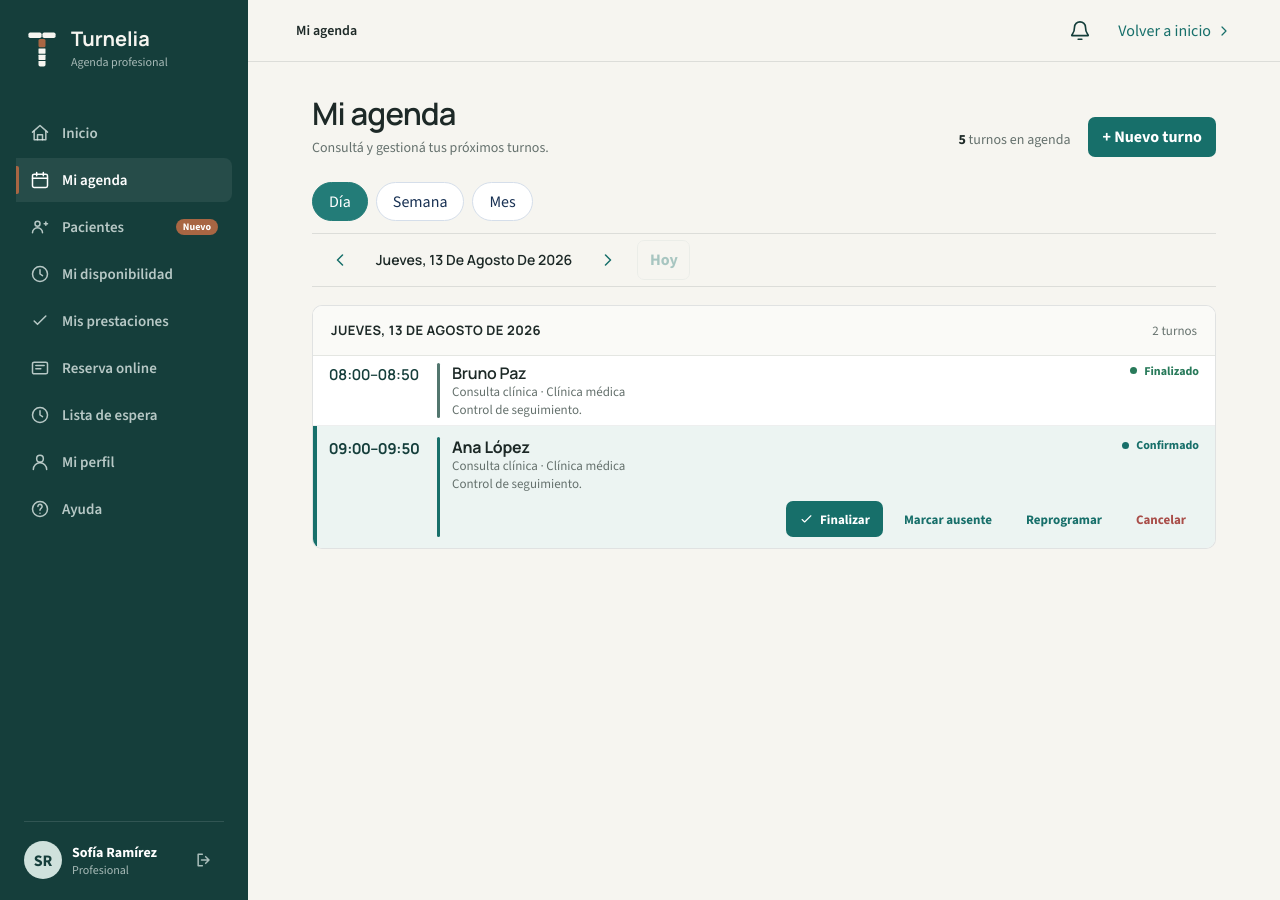
Test: agenda propia profesional Signature › navega localmente entre fechas sin ocultar los grupos
This screenshot has width=1280, height=900.
Expected: the heading "Jueves, 13 de agosto de 2026" is shown, x1=331 y1=321 x2=541 y2=339
Click the button named "Fecha siguiente" at x=608, y=260, box x1=588 y1=240 x2=628 y2=280
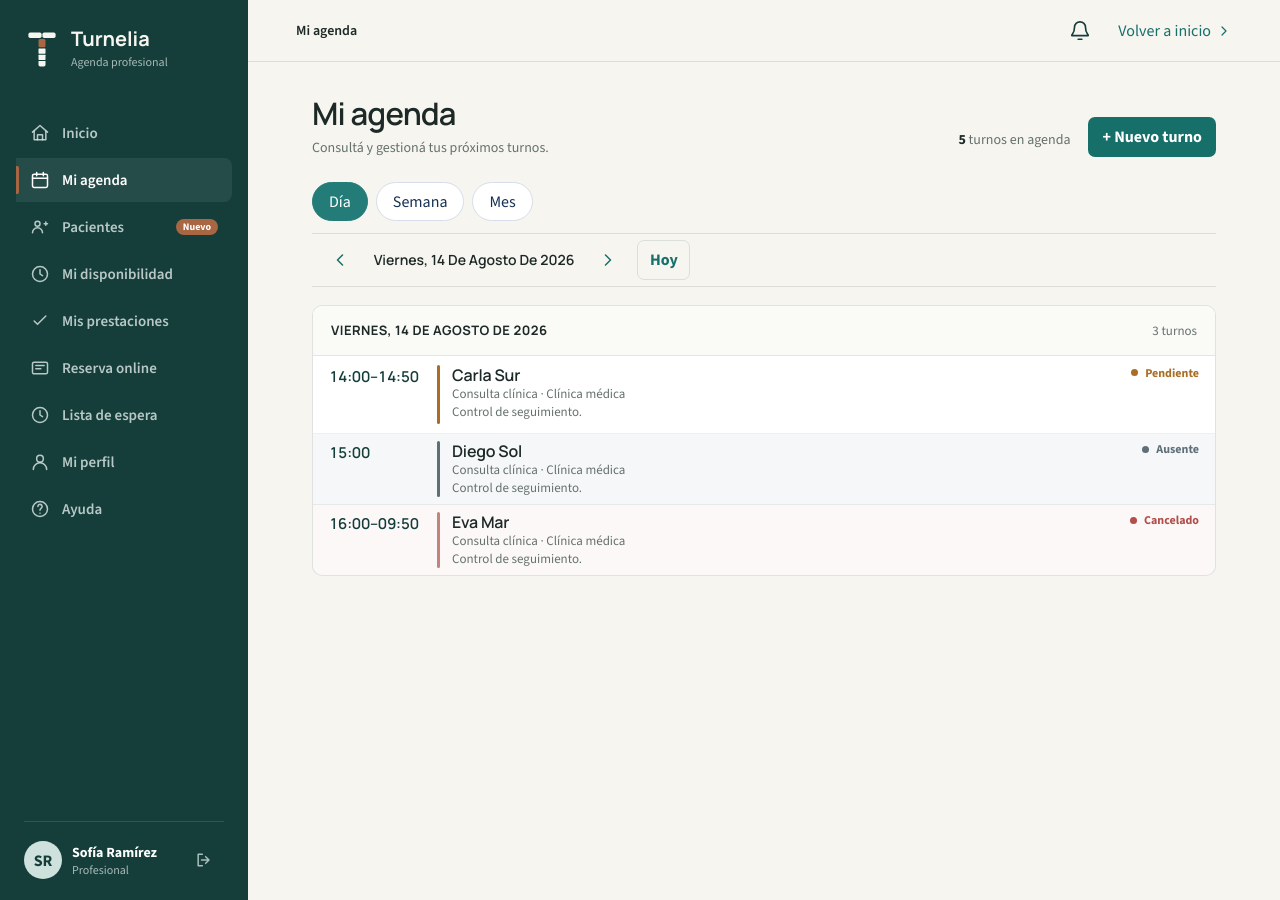
Now the navigation bar named "Navegación temporal" shows "Viernes, 14 de agosto de 2026", box x1=374 y1=250 x2=574 y2=269
Now the heading "Carla Sur" is shown, box x1=452 y1=364 x2=520 y2=386
